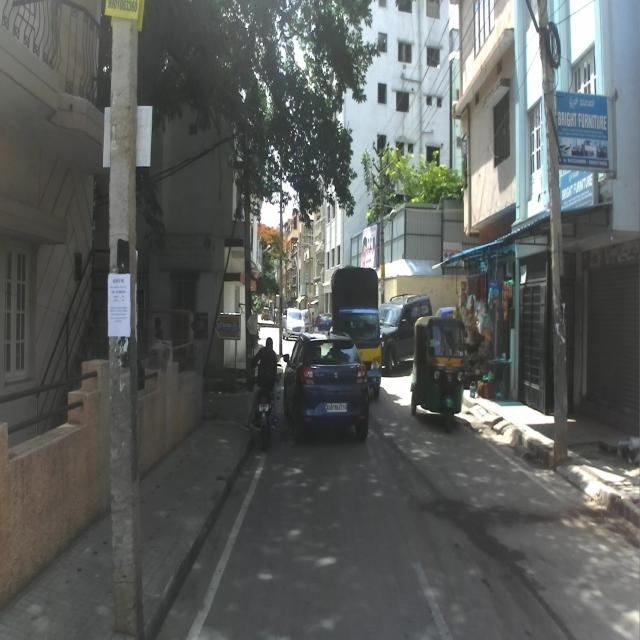Car_Maruti-Suzuki: (282, 329, 370, 442)
autorickshaw: (410, 316, 468, 431)
motorcycle_Suzuki: (251, 358, 281, 451)
